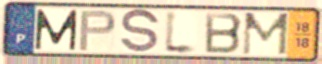B: (203, 11, 245, 55)
L: (162, 8, 200, 57)
M: (240, 12, 291, 57), (33, 8, 80, 52)
P: (77, 9, 118, 53)
S: (119, 7, 162, 56)
